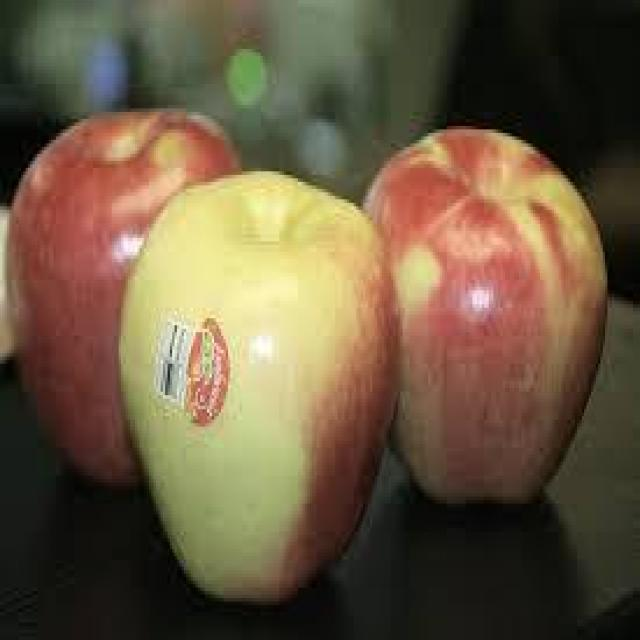maca: (117, 164, 400, 605), (361, 122, 607, 504), (4, 105, 240, 486)
